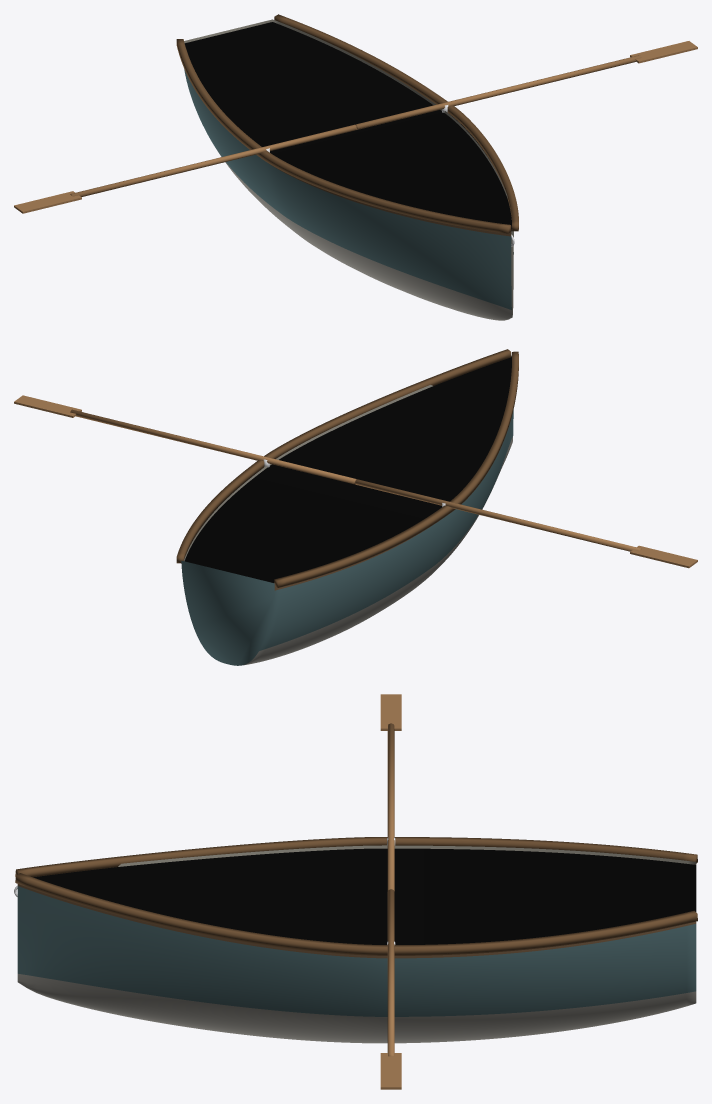
File: rowboat.glb
3 views of the same model, one above another, from view 1: azimuth 30°, elevation 25°; view 2: azimuth 150°, elevation 25°; view 3: azimuth 270°, elevation 25° (orthographic). The views are drawn at different scales.
Visible parts, largest first — view 1: WaterMask, Hull, Rubrail.001, Rubrail, OarShaft, OarShaft.001, InnerShell, OarBlade.001, OarBlade; view 2: WaterMask, Hull, Rubrail, Rubrail.001, OarShaft, OarShaft.001, InnerShell, OarBlade.001, OarBlade; view 3: Hull, WaterMask, Rubrail, Rubrail.001, InnerShell, OarShaft, OarShaft.001, OarBlade, OarBlade.001.
Boxes of the visible parts, x1,y1,x2,y2 form: WaterMask: [184, 22, 513, 231]; Hull: [184, 69, 513, 320]; Rubrail.001: [176, 39, 511, 233]; Rubrail: [274, 14, 518, 231]; OarShaft: [355, 55, 641, 129]; OarShaft.001: [70, 124, 356, 196]; InnerShell: [184, 19, 513, 316]; OarBlade.001: [14, 191, 81, 213]; OarBlade: [630, 41, 697, 63]; WaterMask: [184, 356, 511, 582]; Hull: [181, 410, 513, 665]; Rubrail: [176, 349, 511, 563]; Rubrail.001: [274, 351, 518, 587]; OarShaft: [70, 409, 356, 484]; OarShaft.001: [355, 479, 641, 551]; InnerShell: [183, 385, 432, 561]; OarBlade.001: [630, 545, 697, 568]; OarBlade: [14, 395, 81, 417]; Hull: [17, 884, 696, 1043]; WaterMask: [33, 848, 696, 944]; Rubrail: [15, 873, 697, 955]; Rubrail.001: [15, 837, 697, 877]; InnerShell: [118, 845, 696, 866]; OarShaft: [387, 889, 394, 1056]; OarShaft.001: [387, 723, 394, 891]; OarBlade: [380, 1053, 401, 1089]; OarBlade.001: [380, 694, 401, 730].
Bounding box in the file's own units: 5.71 × 1.06 × 4.2.
